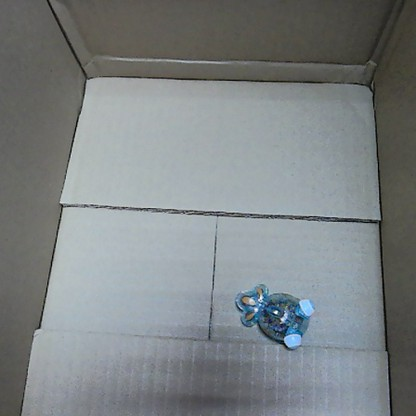bluefish: (229, 279, 313, 348)
